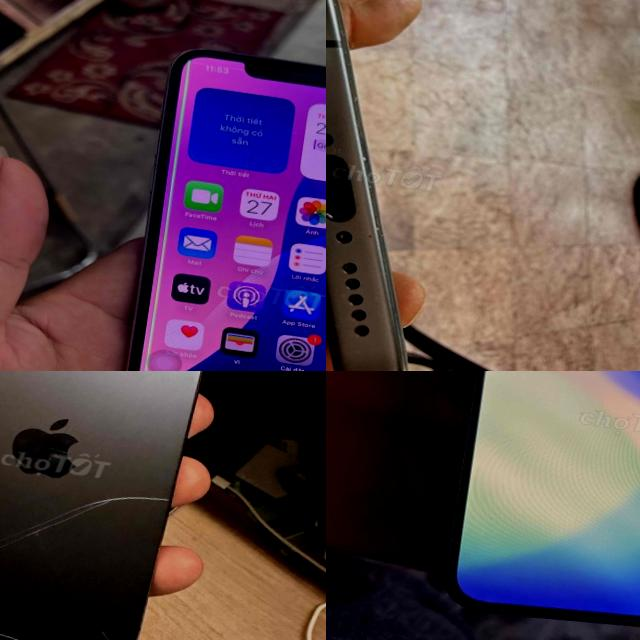physical_damage: (0, 434, 178, 640)
screen_defect: (142, 192, 192, 252), (133, 283, 179, 327), (140, 248, 188, 288), (160, 129, 200, 168), (168, 90, 202, 134), (152, 163, 196, 196), (130, 322, 171, 356), (174, 58, 210, 96), (123, 348, 178, 371)
